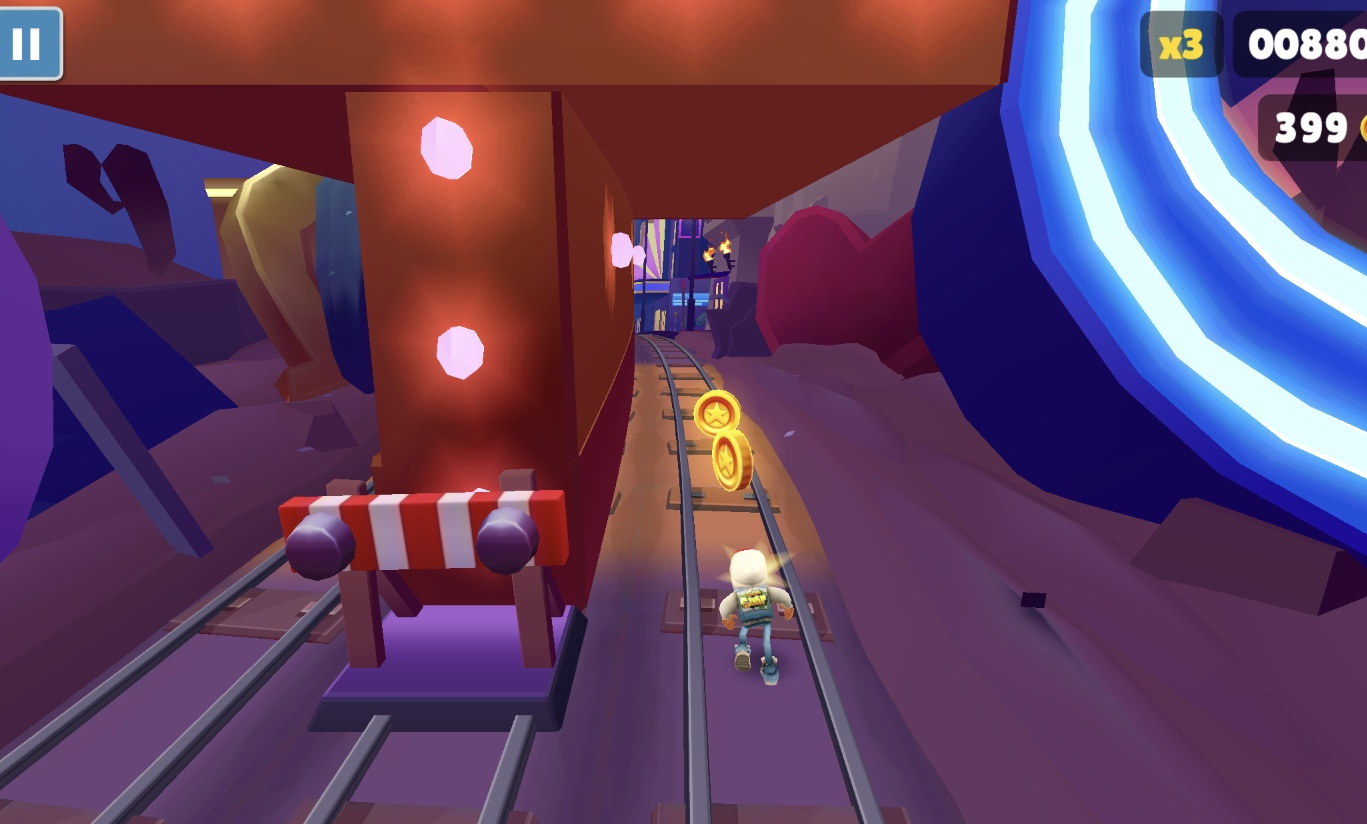ground_barrier: (278, 470, 590, 736)
pillar: (345, 93, 634, 621)
